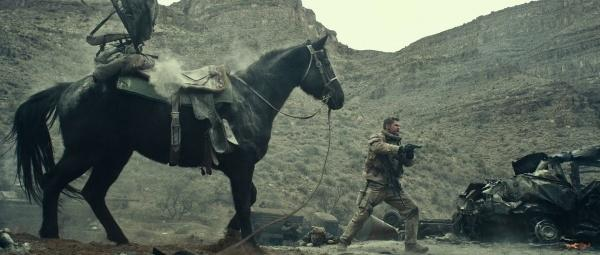Gun: (404, 143, 422, 150)
